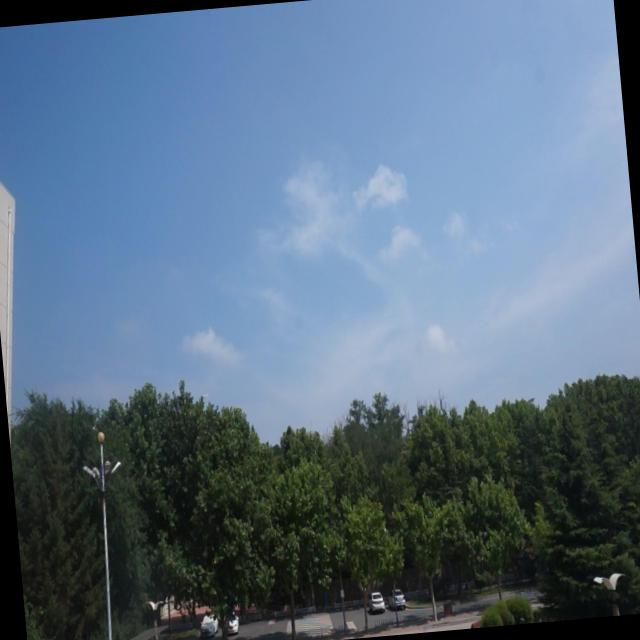drone: (199, 388, 211, 401)
